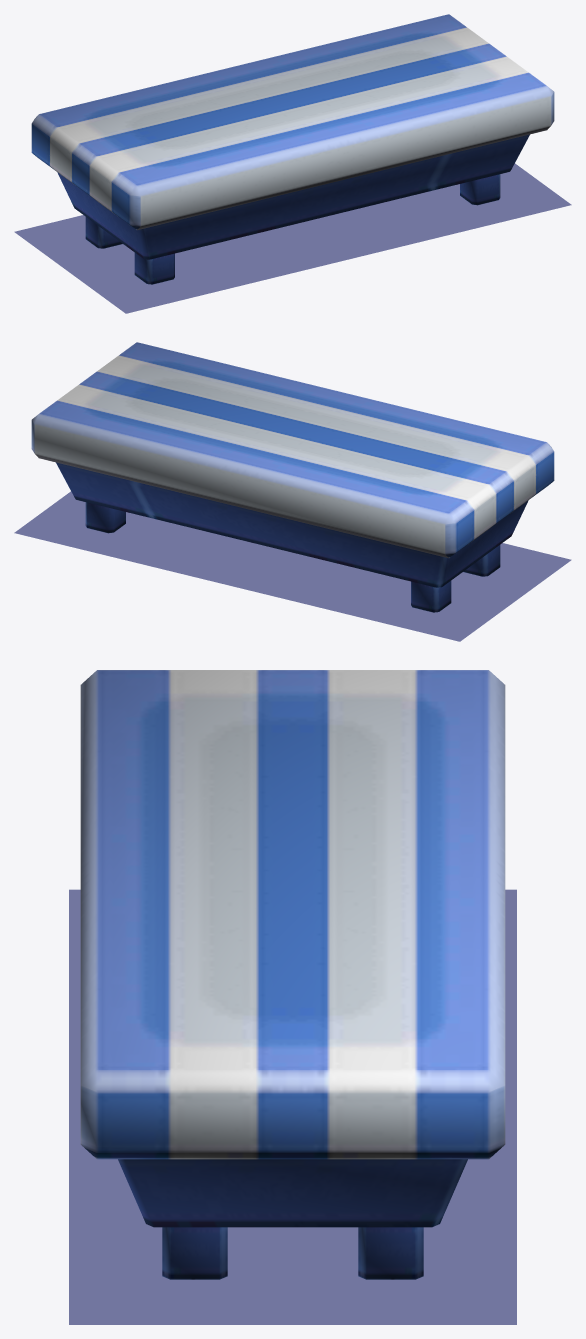
The model's file is rmk_str_tableM.fbx.
The picture shows the model from 3 angles, top to bottom: view 1: azimuth 30°, elevation 25°; view 2: azimuth 150°, elevation 25°; view 3: azimuth 270°, elevation 25°; orthographic projection. The views are drawn at different scales.
Parts seen in each view (by area): view 1: rmk_str_tableM, sdw_square; view 2: rmk_str_tableM, sdw_square; view 3: rmk_str_tableM, sdw_square.
Boxes of the visible parts, <box> form: rmk_str_tableM: <box>31,14,554,284</box>; sdw_square: <box>14,163,571,313</box>; rmk_str_tableM: <box>31,342,554,612</box>; sdw_square: <box>14,491,571,641</box>; rmk_str_tableM: <box>80,670,505,1279</box>; sdw_square: <box>69,889,516,1324</box>.
Size of the model in its own units: 0.1971 by 0.05 by 0.0857.
